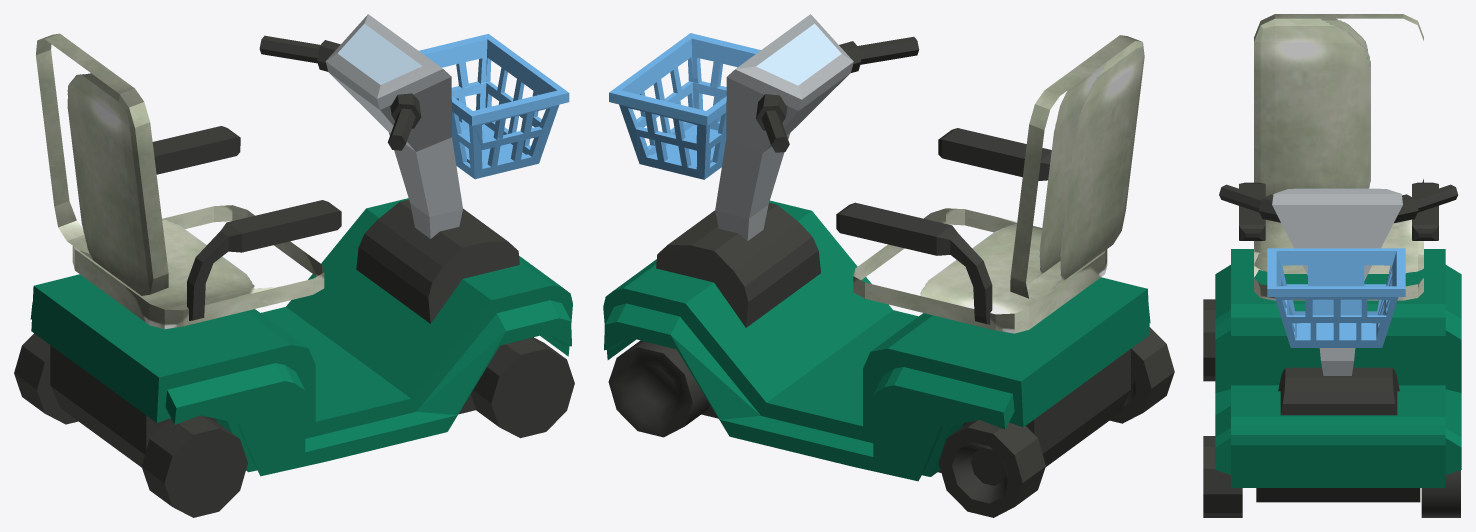
3 views of the same model, side by side, from view 1: azimuth 30°, elevation 25°; view 2: azimuth 150°, elevation 25°; view 3: azimuth 270°, elevation 25° (orthographic). The views are drawn at different scales.
Parts seen in each view (by area): view 1: Go25_2, W12_1, W12_1.003, W12_1.001; view 2: Go25_2, W12_1.001, W12_1.002, W12_1; view 3: Go25_2, W12_1.003, W12_1.002, W12_1.
Part boxes in pixels (bbox=[...]): Go25_2: bbox=[30, 14, 572, 476]; W12_1: bbox=[141, 415, 247, 517]; W12_1.003: bbox=[471, 337, 574, 438]; W12_1.001: bbox=[14, 333, 78, 424]; Go25_2: bbox=[603, 14, 1150, 481]; W12_1.001: bbox=[938, 420, 1045, 517]; W12_1.002: bbox=[608, 340, 709, 437]; W12_1: bbox=[1110, 327, 1174, 423]; Go25_2: bbox=[1215, 14, 1461, 502]; W12_1.003: bbox=[1203, 436, 1242, 517]; W12_1.002: bbox=[1421, 470, 1460, 517]; W12_1: bbox=[1203, 299, 1215, 381].
Size of the model in its own units: 1.36 by 1.18 by 0.7988.
